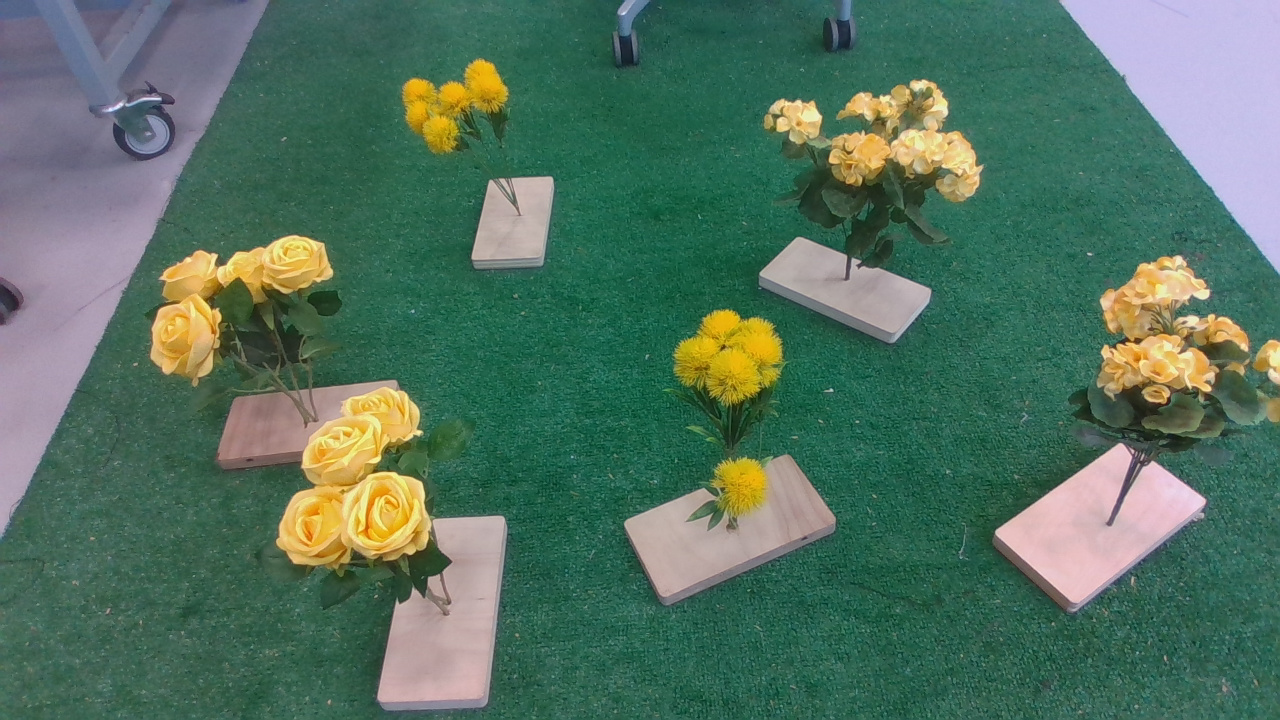dandelion: (662, 305, 801, 534), (384, 55, 526, 166)
geranium: (1075, 250, 1280, 481), (750, 80, 994, 262)
rose: (270, 393, 470, 632), (141, 239, 352, 396)
